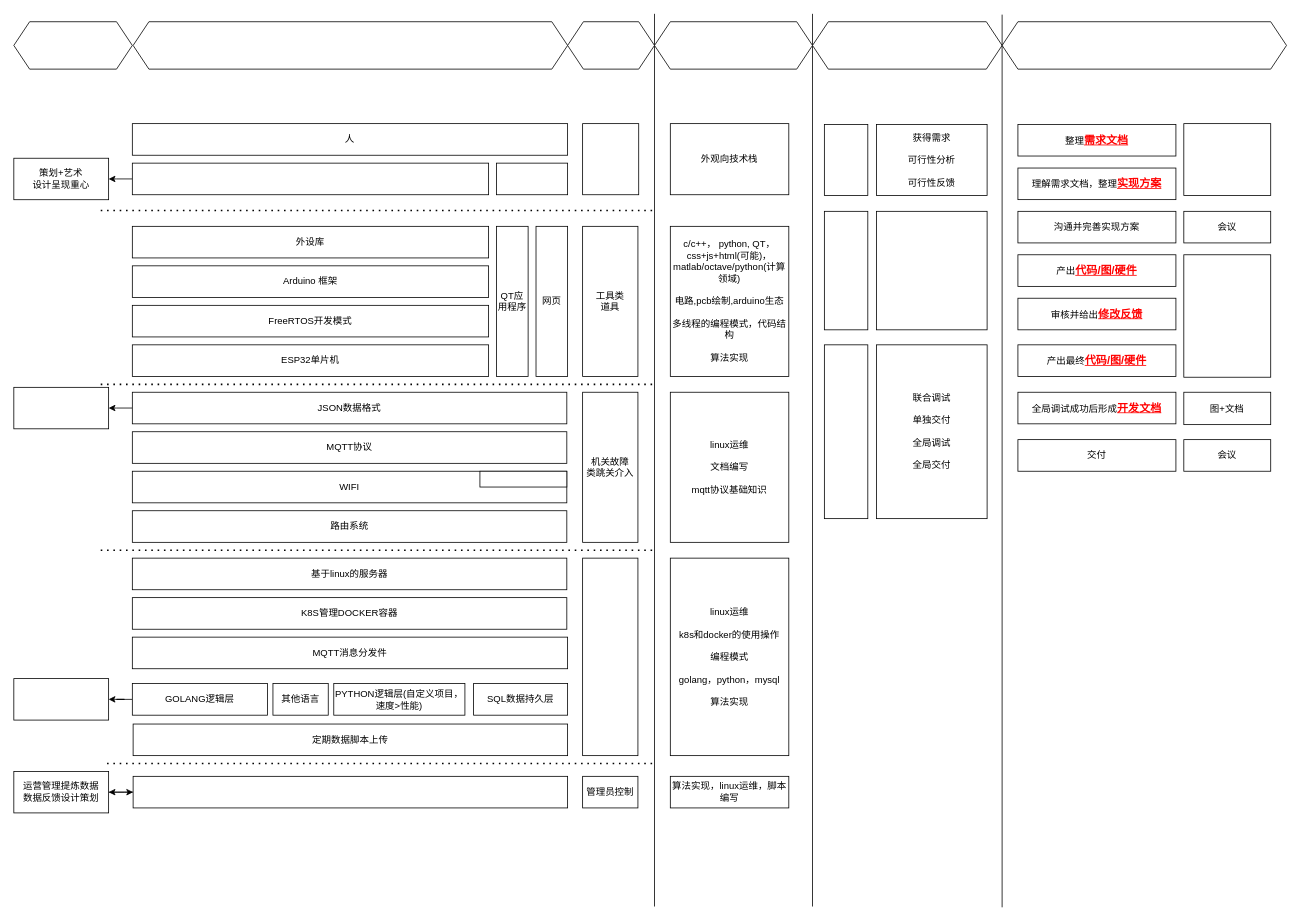
Some shapes in this 1300 by 922 pixel diagram are drawn without their labels. Each missing label, with the centre of its shape:
"git+review为主" goes at point 1227,315.
"lora/蓝牙" goes at point 523,478.
"云服务器持久+运算" goes at point 350,792.
"场内游戏 监控 非故障类 跳关介入" goes at point 610,656.
"外设" goes at point 310,178.
"宏观工作流程(PM)" goes at point 907,45.
"工作重心" goes at point 72,45.
"工具" goes at point 532,178.
"接口" goes at point 611,45.
"文档整理重心" goes at point 61,408.
"服务器驱动开发 单片机驱动开发 电路设计并制作 通信协议敲定并编写文档" goes at point 931,270.
"流程图/文字描述" goes at point 1227,159.
"电路及驱动开发" goes at point 846,270.
"硬性技术栈" goes at point 733,45.
"策划设计机制重心 e.g.:定位/交易/继承/战斗/打印" goes at point 61,699.
"管家" goes at point 610,159.
"系统层级" goes at point 350,45.
"细化开发流程" goes at point 1144,45.
"调试" goes at point 846,431.
"需求及可行性分析" goes at point 846,160.
